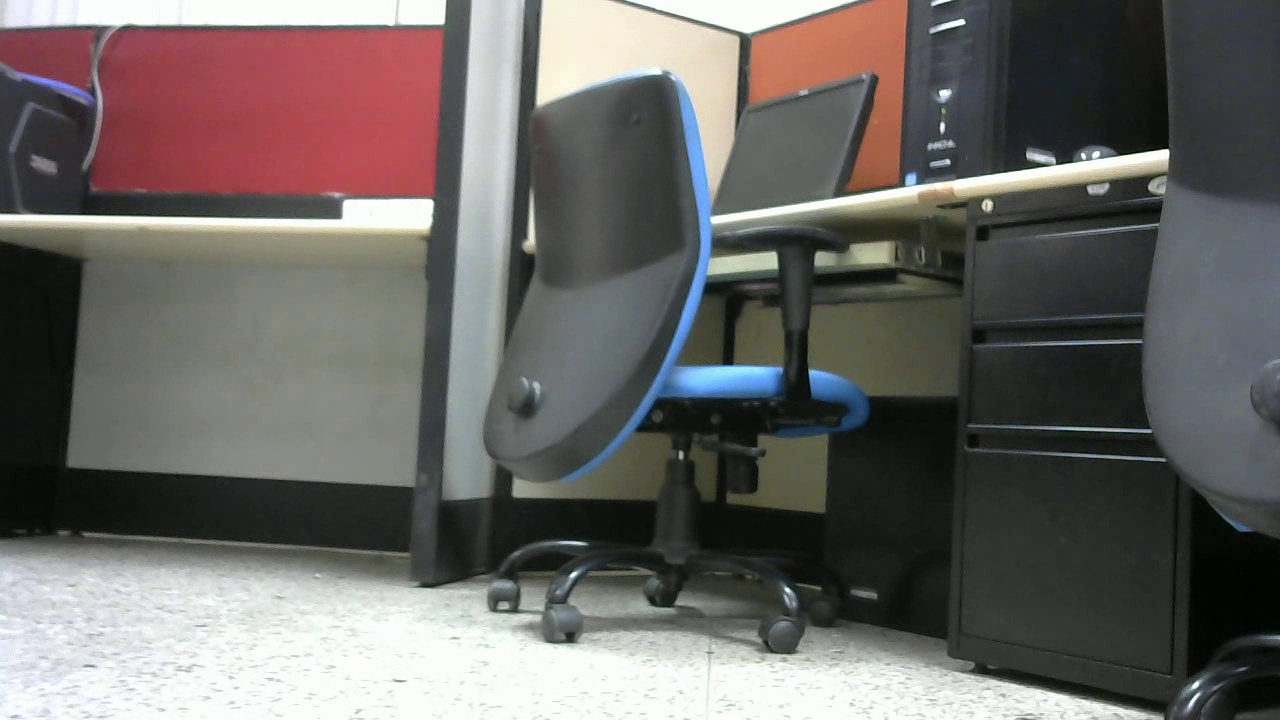chair: (419, 63, 870, 659)
